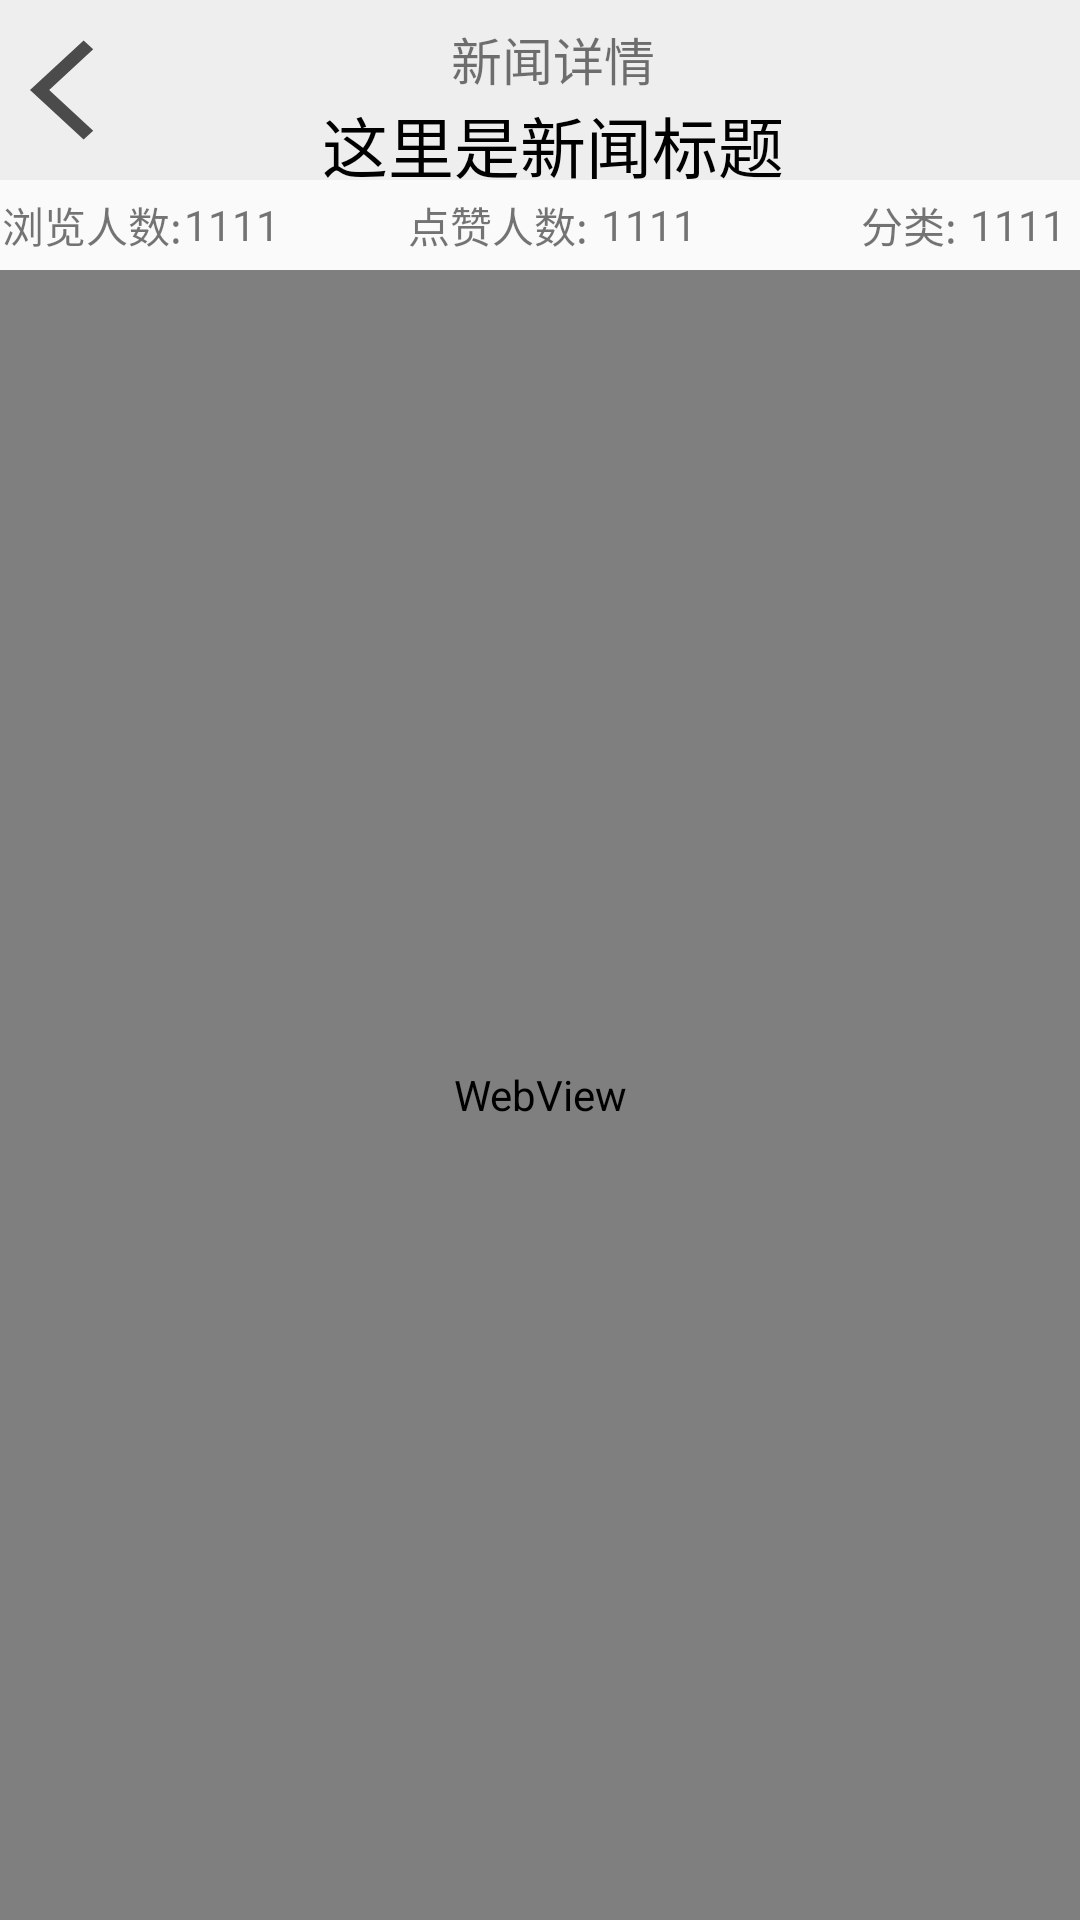

Icons on this 1080px x 1920px Android screen, each with the point to tap as [x,y]:
arrow back: [61,90]
